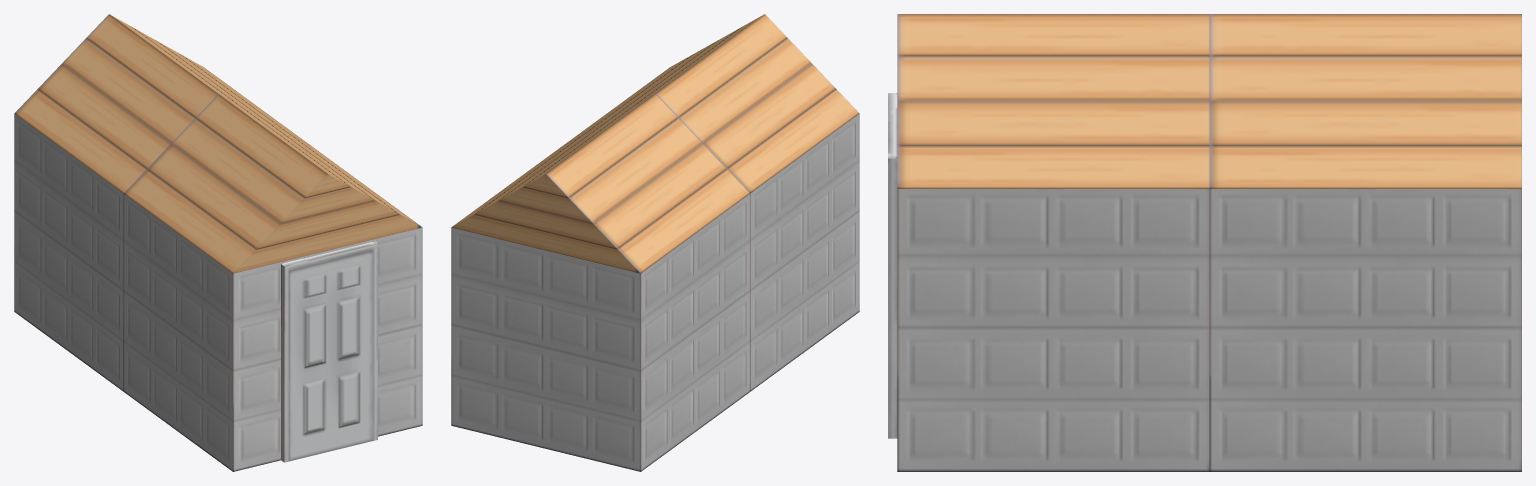
File: Shed_4.fbx
The picture shows the model from 3 angles, left to right: view 1: azimuth 30°, elevation 25°; view 2: azimuth 150°, elevation 25°; view 3: azimuth 270°, elevation 25°; orthographic projection. The views are drawn at different scales.
Parts seen in each view (by area): view 1: Maya_File_Assets:TexturedAssetsCurrent:Metal_Shed; view 2: Maya_File_Assets:TexturedAssetsCurrent:Metal_Shed; view 3: Maya_File_Assets:TexturedAssetsCurrent:Metal_Shed.
Part boxes in pixels (x1=…): Maya_File_Assets:TexturedAssetsCurrent:Metal_Shed: x1=14, y1=14, x2=422, y2=471; Maya_File_Assets:TexturedAssetsCurrent:Metal_Shed: x1=451, y1=14, x2=859, y2=471; Maya_File_Assets:TexturedAssetsCurrent:Metal_Shed: x1=888, y1=14, x2=1521, y2=471.
Size of the model in its own units: 2.74 by 3.8 by 5.57.
